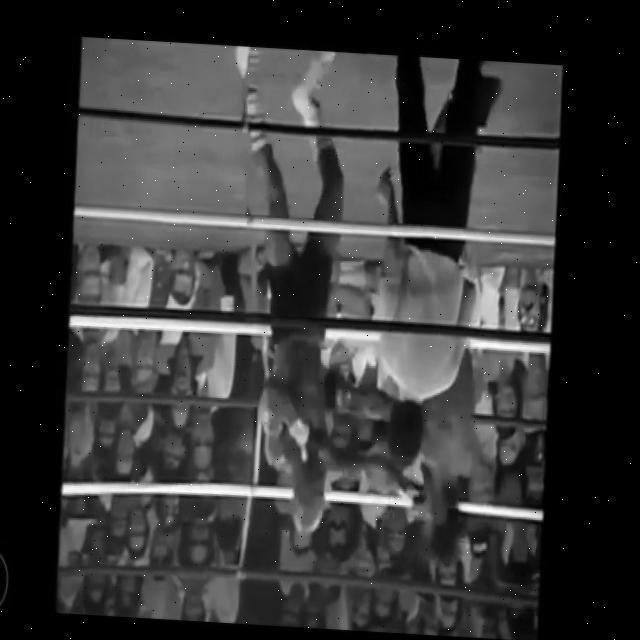Jab: (288, 307, 452, 524)
